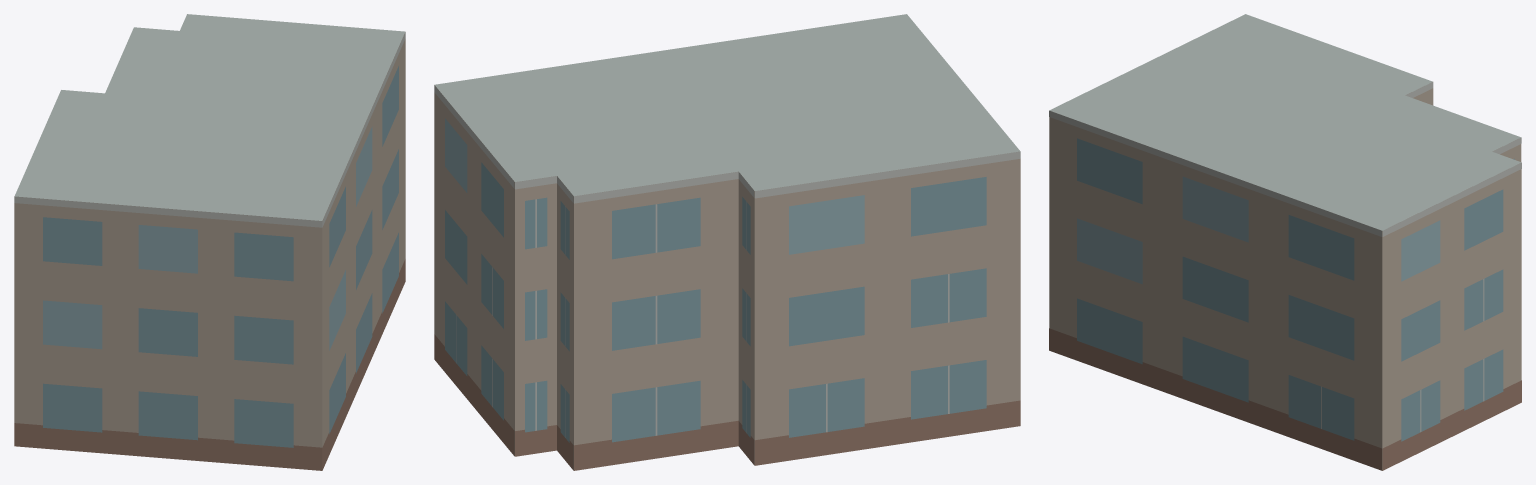
File: survey-upis-32698027.glb
3 renders of one model, left to right at view 1: azimuth 30°, elevation 25°; view 2: azimuth 150°, elevation 25°; view 3: azimuth 270°, elevation 25°, orthographic. The views are drawn at different scales.
Parts seen in each view (by area): view 1: survey-upis-32698027.tmp; view 2: survey-upis-32698027.tmp; view 3: survey-upis-32698027.tmp.
Part boxes in pixels (left/top/right/bottom): survey-upis-32698027.tmp: left=14, top=14, right=405, bottom=470; survey-upis-32698027.tmp: left=434, top=14, right=1020, bottom=470; survey-upis-32698027.tmp: left=1049, top=14, right=1521, bottom=470.
Size of the model in its own units: 17.73 by 9.15 by 16.34.
